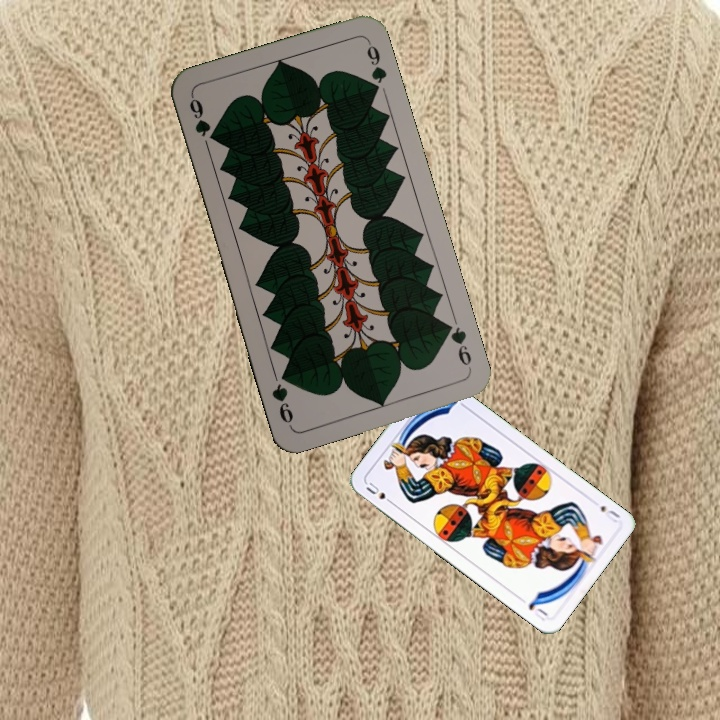G9: (440, 318, 474, 373), (185, 92, 214, 140)
SU: (362, 478, 397, 508), (596, 501, 623, 525)
